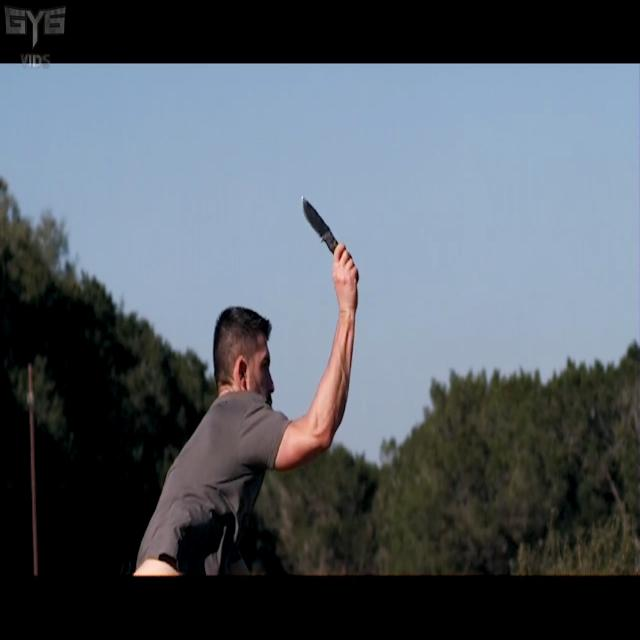knife: (302, 197, 338, 255)
